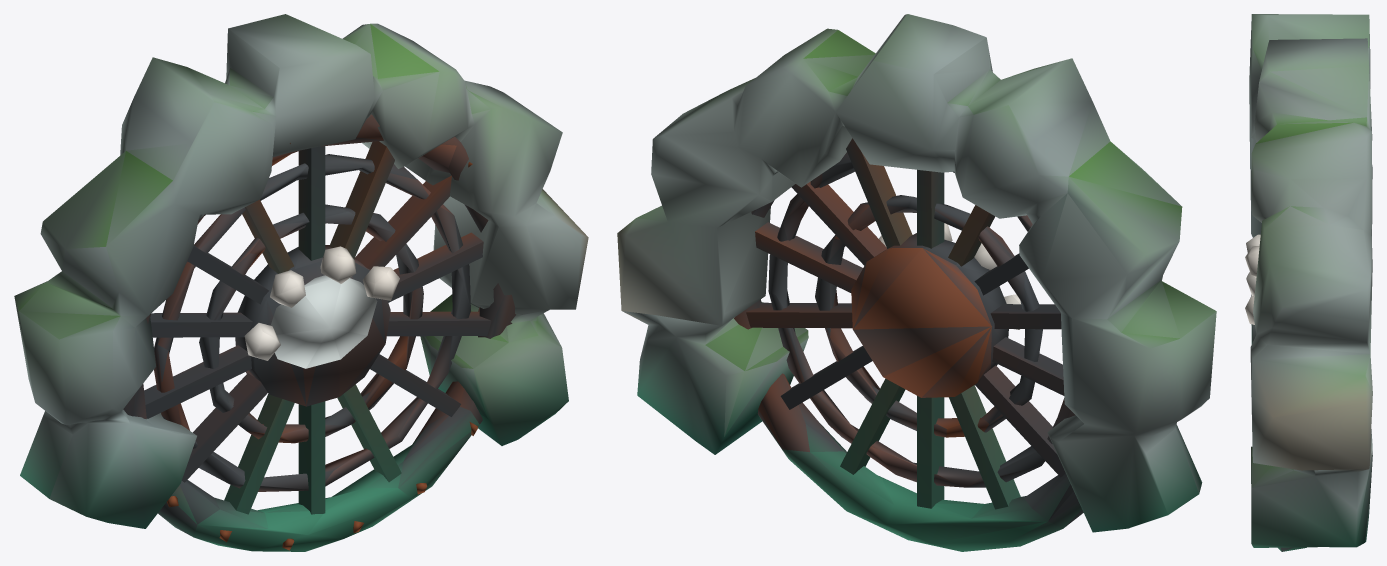
File: grotto_pearl_seal_lod2.glb
The picture shows the model from 3 angles, left to right: view 1: azimuth 30°, elevation 25°; view 2: azimuth 150°, elevation 25°; view 3: azimuth 270°, elevation 25°; orthographic projection. The views are drawn at different scales.
Parts seen in each view (by area): view 1: grotto_pearl_seal.001; view 2: grotto_pearl_seal.001; view 3: grotto_pearl_seal.001.
Part boxes in pixels (left/top/right/bottom): grotto_pearl_seal.001: left=14, top=14, right=588, bottom=551; grotto_pearl_seal.001: left=617, top=14, right=1216, bottom=551; grotto_pearl_seal.001: left=1245, top=14, right=1372, bottom=551.
Bounding box in the file's own units: 11.42 × 10.2 × 2.49.
